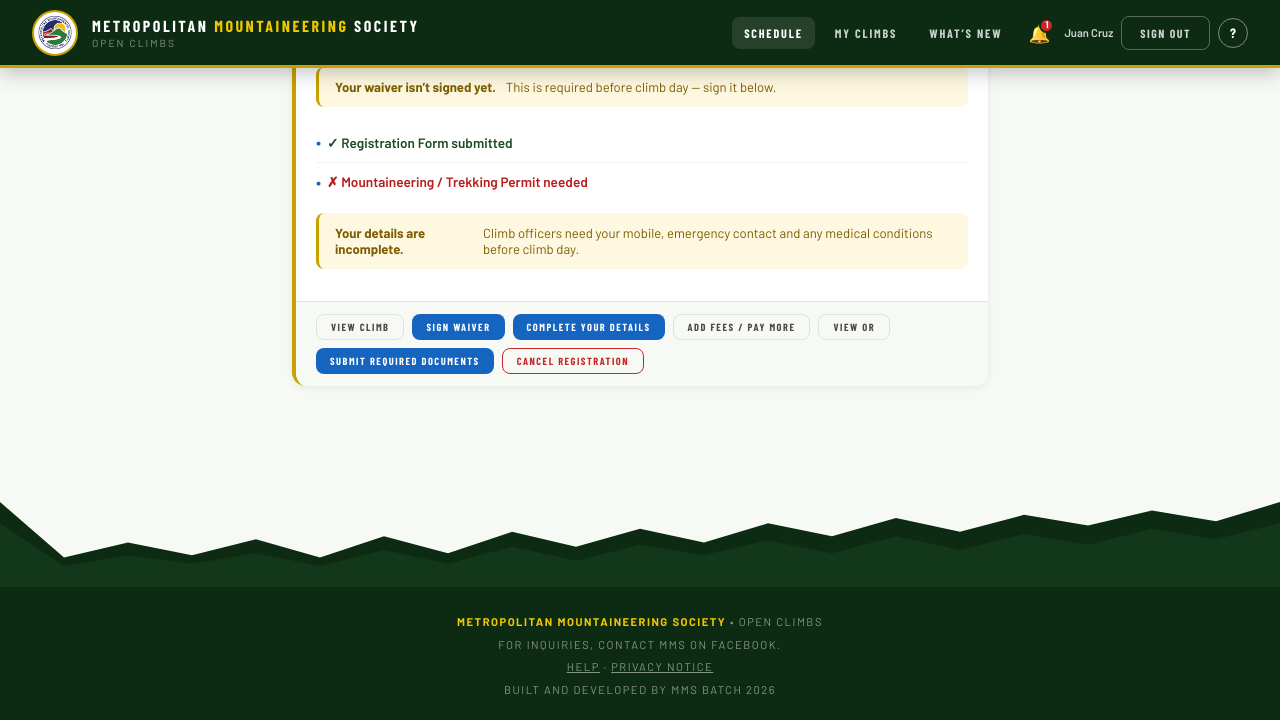
Test: MyRegistrations page › shows already-submitted documents alongside the still-missing one in the Submit Required Documents modal
(page scrolled)
Click the button "Submit Required Documents" at (405, 361), box [316,348,494,374]
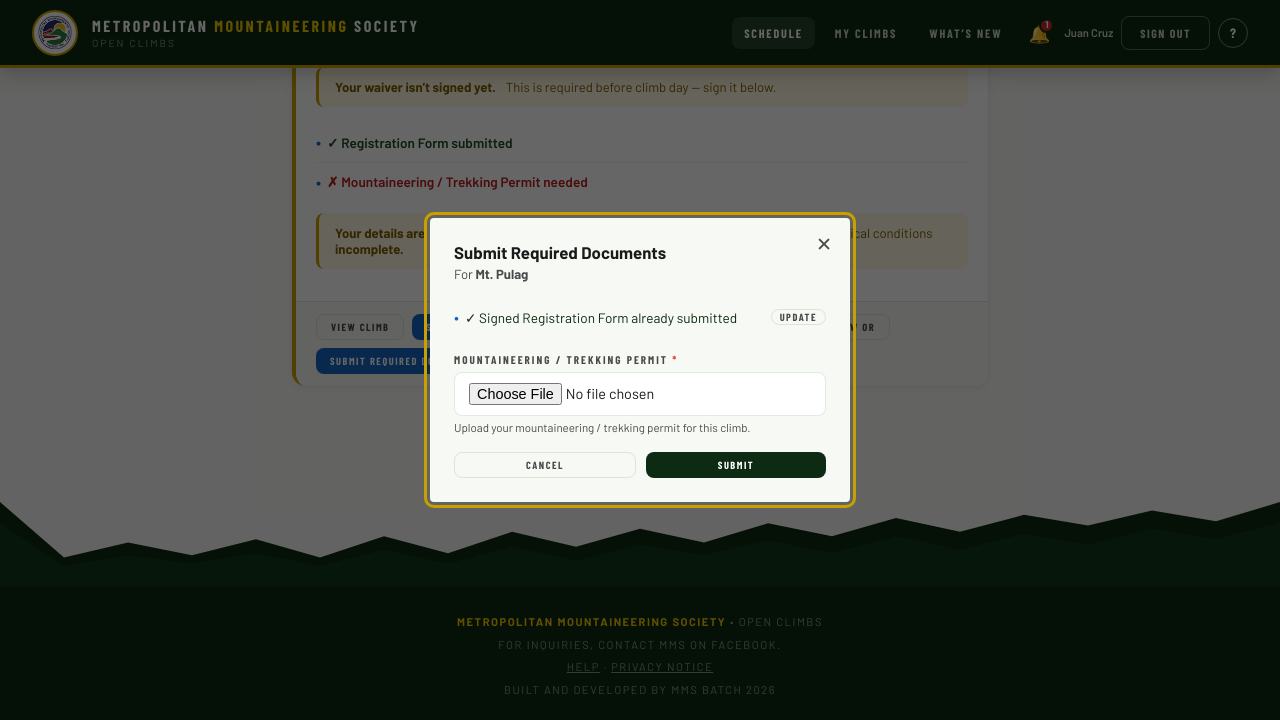
Result: the text "✓ Signed Registration Form already submitted" is shown at [465,308,737,327]
Result: the text "Mountaineering / Trekking Permit" is shown at [454,353,668,366]
